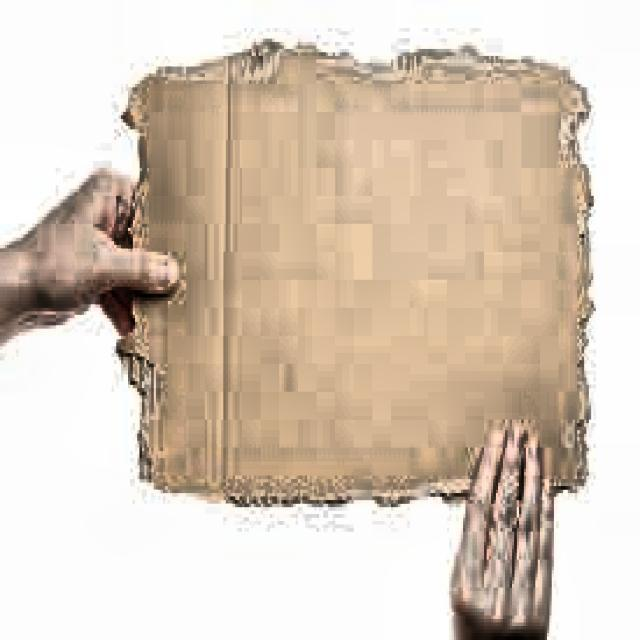cardboard: (114, 35, 596, 507)
